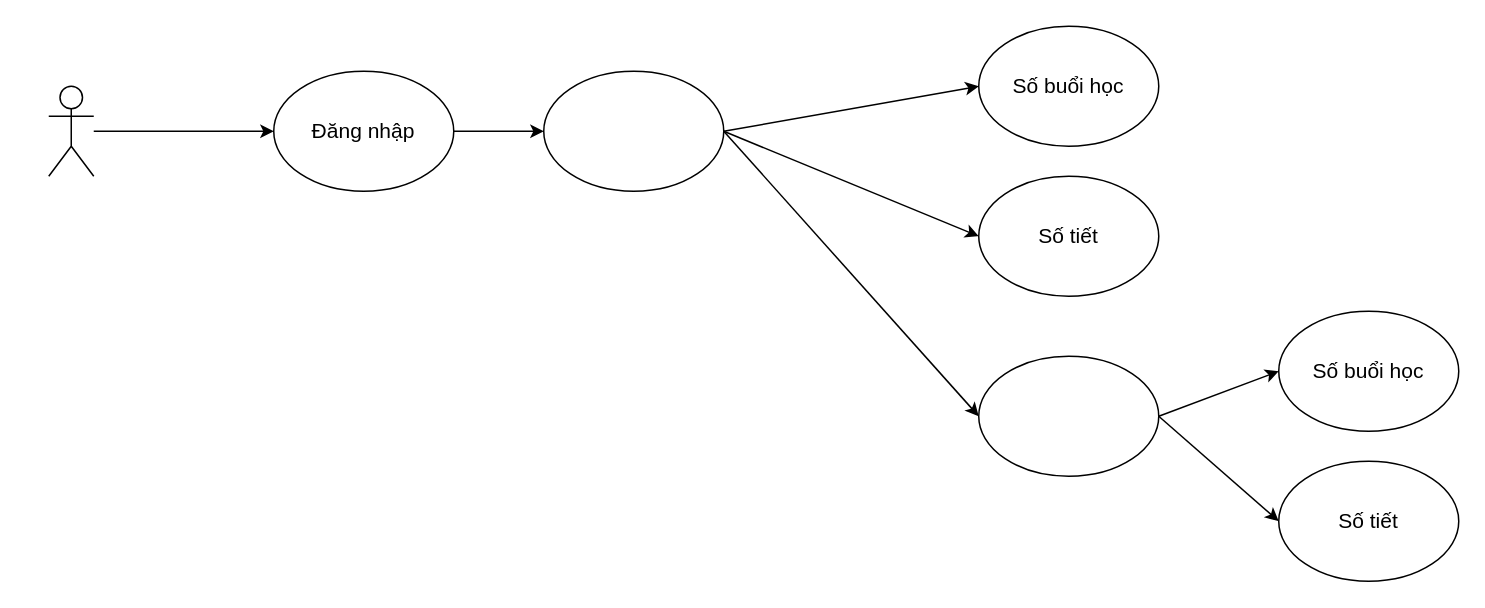
Image size: 1485x608. Some labels were removed from this diagram. The shapes that lost their labels are listed below. From the top down, each one's centre as x and y in pixels, then its label:
At point 70,130: "Sinh Viên".
At point 633,130: "Thống kê".
At point 1068,415: "Thống kê theo môn".
